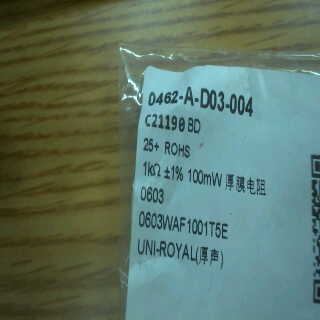1kR: (139, 157, 164, 182)
